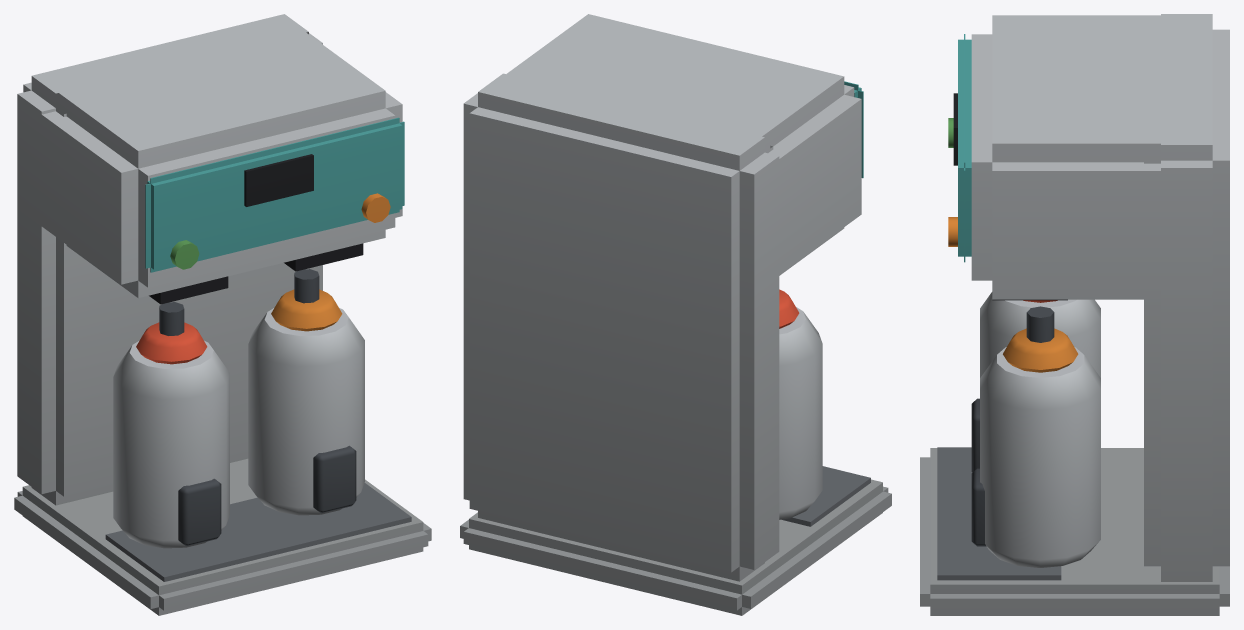
Rendered from SM_Coffee_Brewer_Airpot_01.glb.
3 views of the same model, side by side, from view 1: azimuth 30°, elevation 25°; view 2: azimuth 150°, elevation 25°; view 3: azimuth 270°, elevation 25° (orthographic). The views are drawn at different scales.
Visible parts, largest first — view 1: SM_Coffee_Brewer_Airpot_01; view 2: SM_Coffee_Brewer_Airpot_01; view 3: SM_Coffee_Brewer_Airpot_01.
Part boxes in pixels (x1,y1,x2,y2): SM_Coffee_Brewer_Airpot_01: (14, 14, 431, 615); SM_Coffee_Brewer_Airpot_01: (460, 14, 891, 615); SM_Coffee_Brewer_Airpot_01: (920, 14, 1229, 615).
Size of the model in its own units: 0.5 by 0.75 by 0.45.
1 material, 1 textured.
